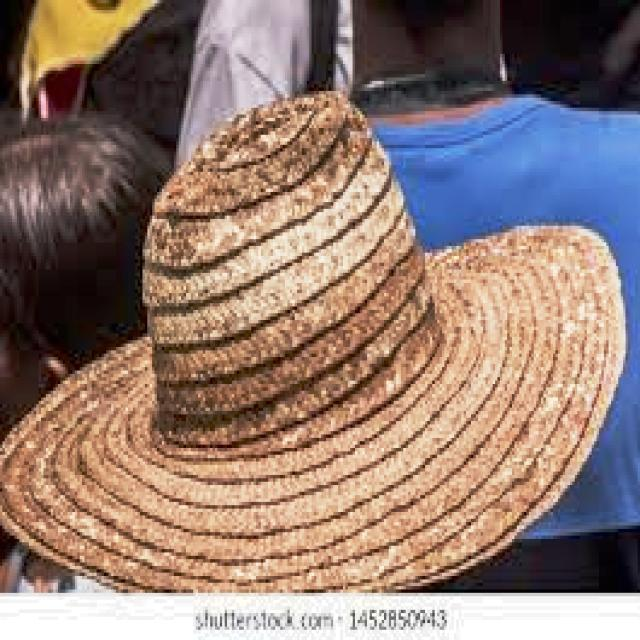TOPI: (0, 84, 623, 593)
